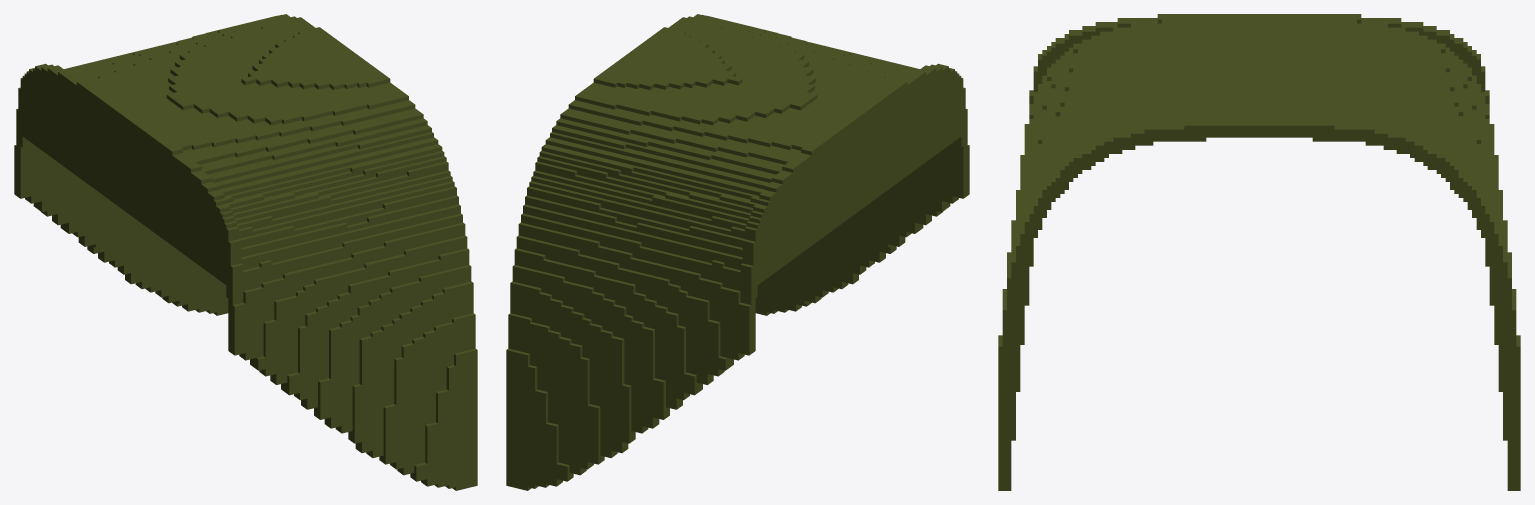
Rendered from heavy_cargo_helicopter_tail_section.glb.
The picture shows the model from 3 angles, left to right: view 1: azimuth 30°, elevation 25°; view 2: azimuth 150°, elevation 25°; view 3: azimuth 270°, elevation 25°; orthographic projection. The views are drawn at different scales.
Parts seen in each view (by area): view 1: body:compound; view 2: body:compound; view 3: body:compound.
Boxes of the visible parts, left/top/right/bottom form: body:compound: left=14, top=14, right=477, bottom=490; body:compound: left=506, top=14, right=969, bottom=490; body:compound: left=998, top=14, right=1520, bottom=490.
Bounding box in the file's own units: 2 × 2.84 × 3.69.
